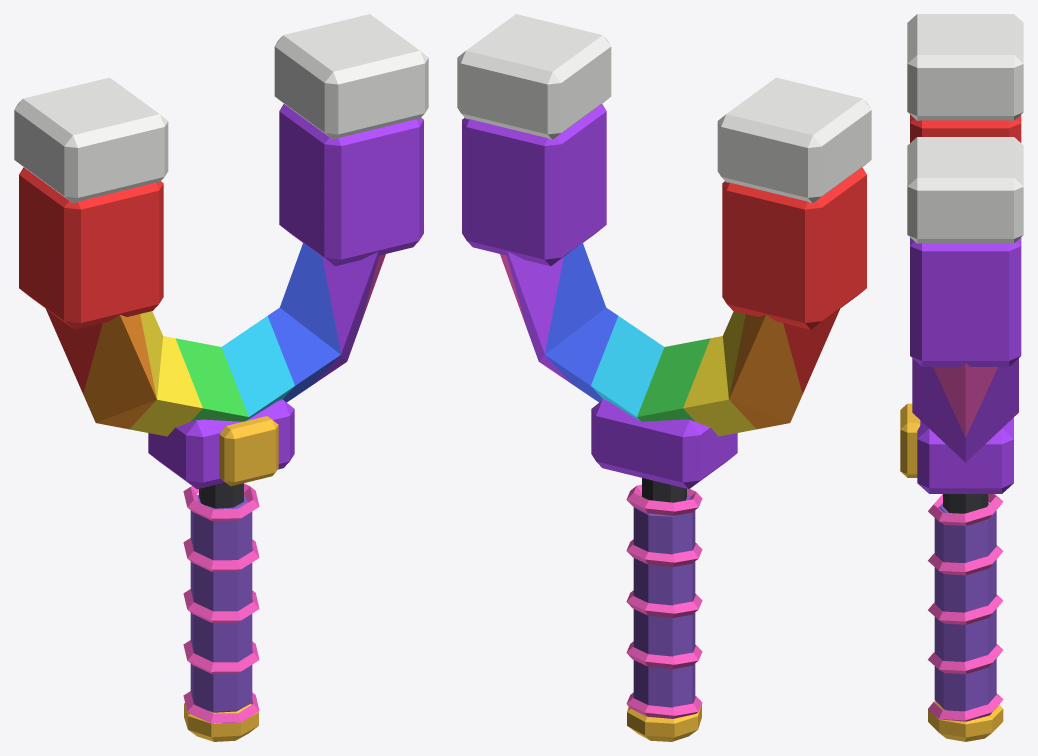
File: RainbowCoinMagnet.fbx
The picture shows the model from 3 angles, left to right: view 1: azimuth 30°, elevation 25°; view 2: azimuth 150°, elevation 25°; view 3: azimuth 270°, elevation 25°; orthographic projection. The views are drawn at different scales.
Visible parts, largest first — view 1: RainbowCoinMagnet; view 2: RainbowCoinMagnet; view 3: RainbowCoinMagnet.
Boxes of the visible parts, x1,y1,x2,y2 form: RainbowCoinMagnet: (14,14,428,741); RainbowCoinMagnet: (457,14,871,741); RainbowCoinMagnet: (900,14,1023,741).
Bounding box in the file's own units: 1.68 × 2.89 × 0.51.
Materials: 1 (1 with a texture image).
